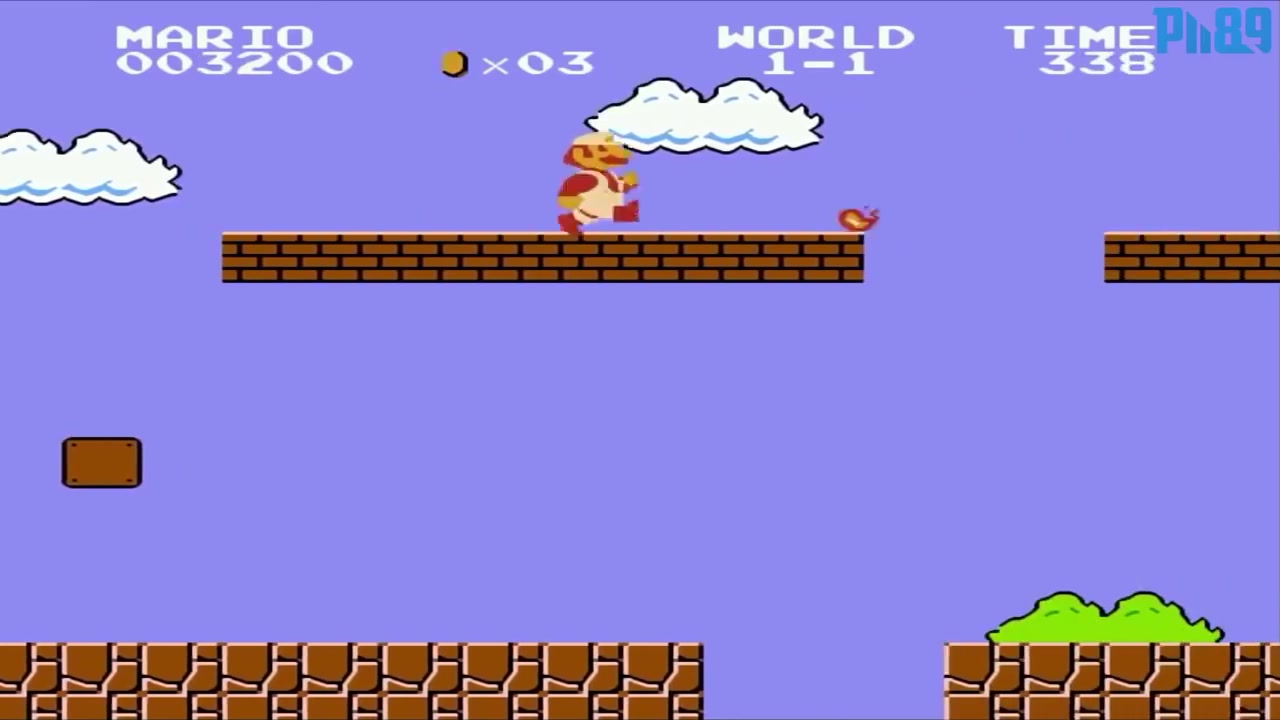mario: (554, 127, 639, 242)
